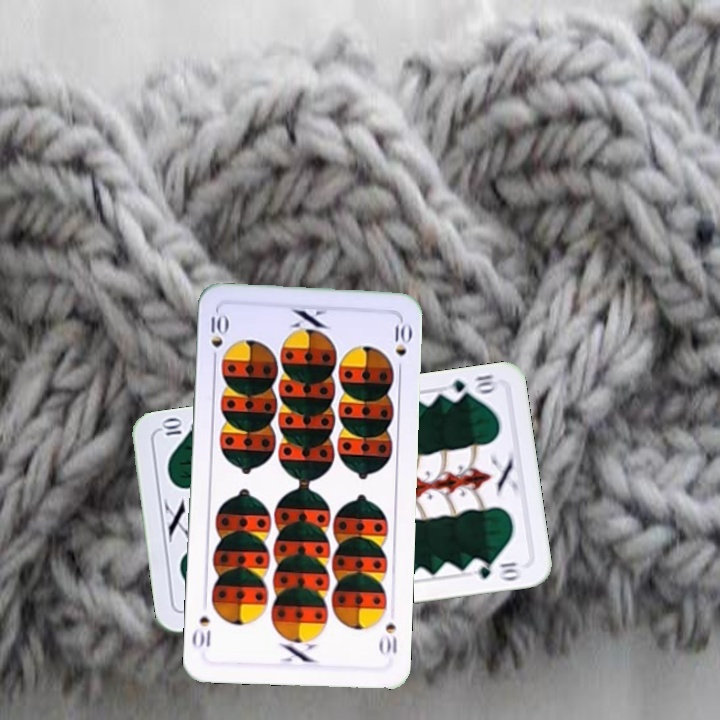G10: (440, 370, 501, 403)
S10: (207, 307, 228, 366), (376, 619, 400, 657)
